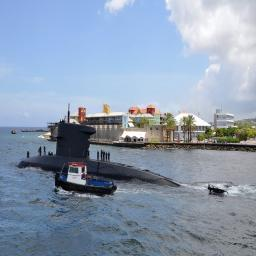submarine: (20, 103, 188, 188)
